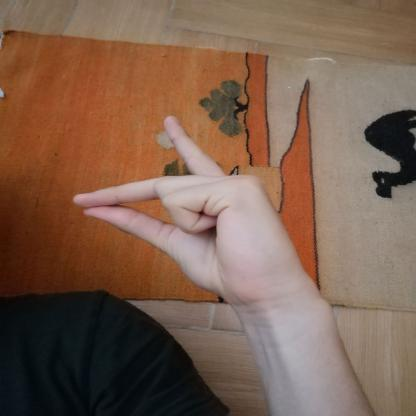TAA: (59, 108, 322, 314)
